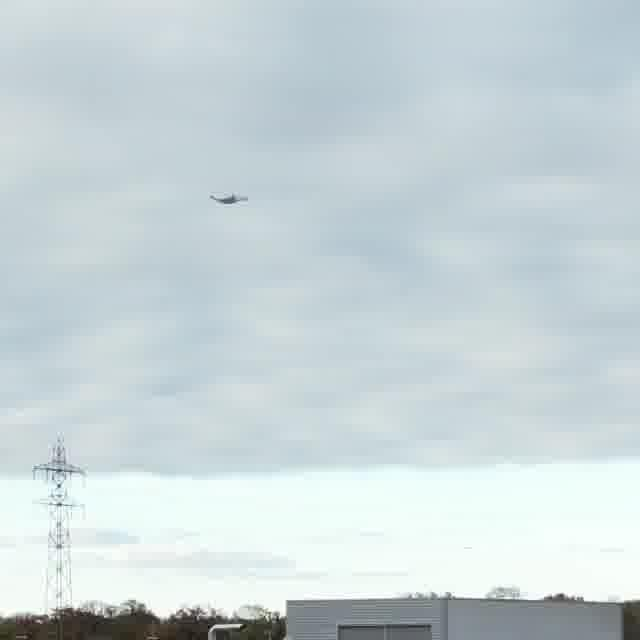Drohne: (210, 194, 247, 203)
